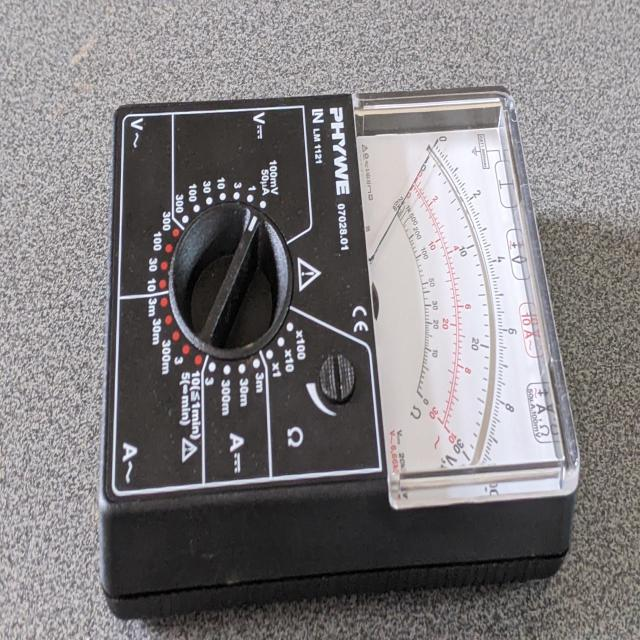Analog Multimeter: (89, 74, 592, 612)
